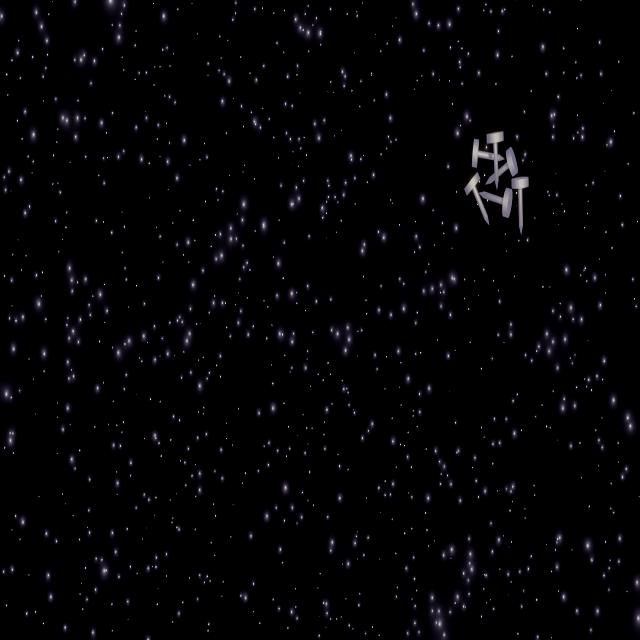large_debris: (464, 117, 531, 240)
